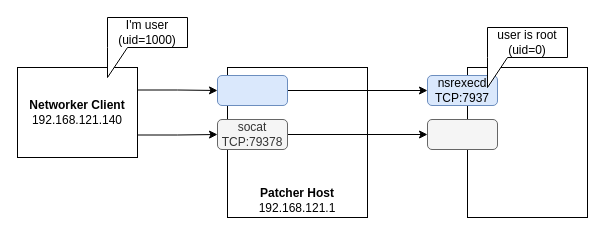
The diagram is 605 pixels wide and 235 high, and some of its shapes have lost their labels. The box of each missing label's shape, as (x1, y1, x2, y2) in pixels:
netsed TCP:7937: (216, 74, 288, 106)
Networker Server 192.168.121.4: (466, 66, 588, 218)
nsrexecd TCP:79378: (426, 118, 498, 150)
